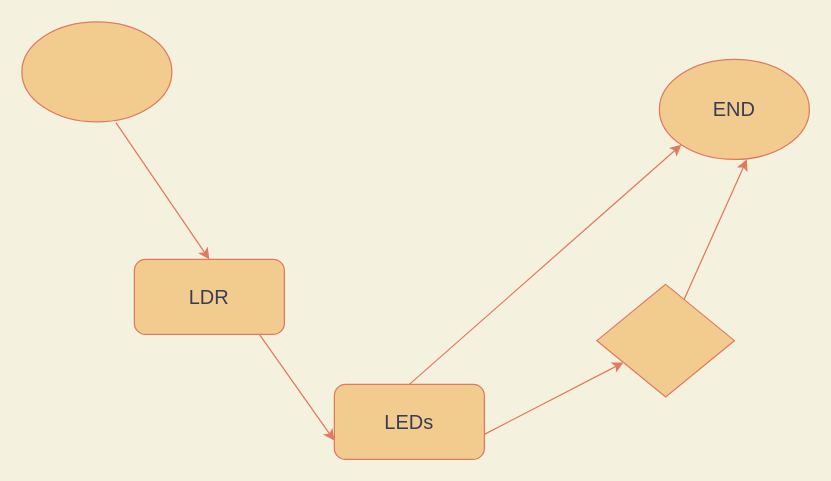
This 831x481 diagram has some shape labels left out. The centre of each missing label's shape, as x and y in pixels:
"BUZZER" belongs at (x=665, y=340).
"START" belongs at (x=96, y=71).
